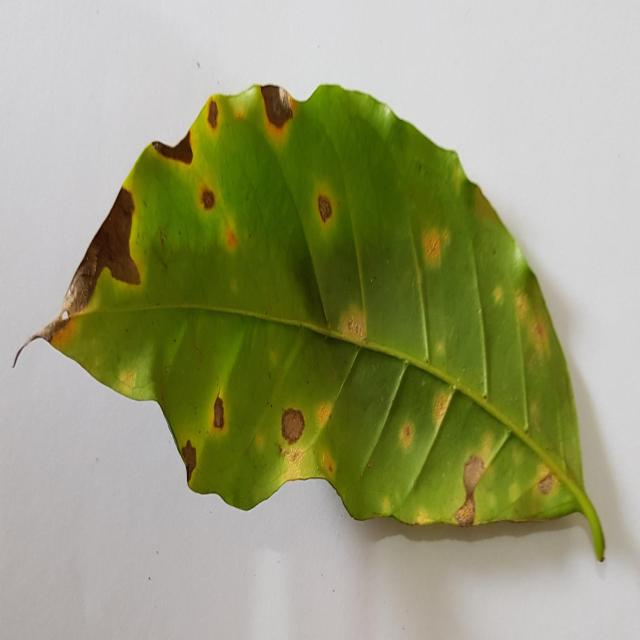Enfermedad-Mancha-de-hierro: (28, 84, 605, 564)
